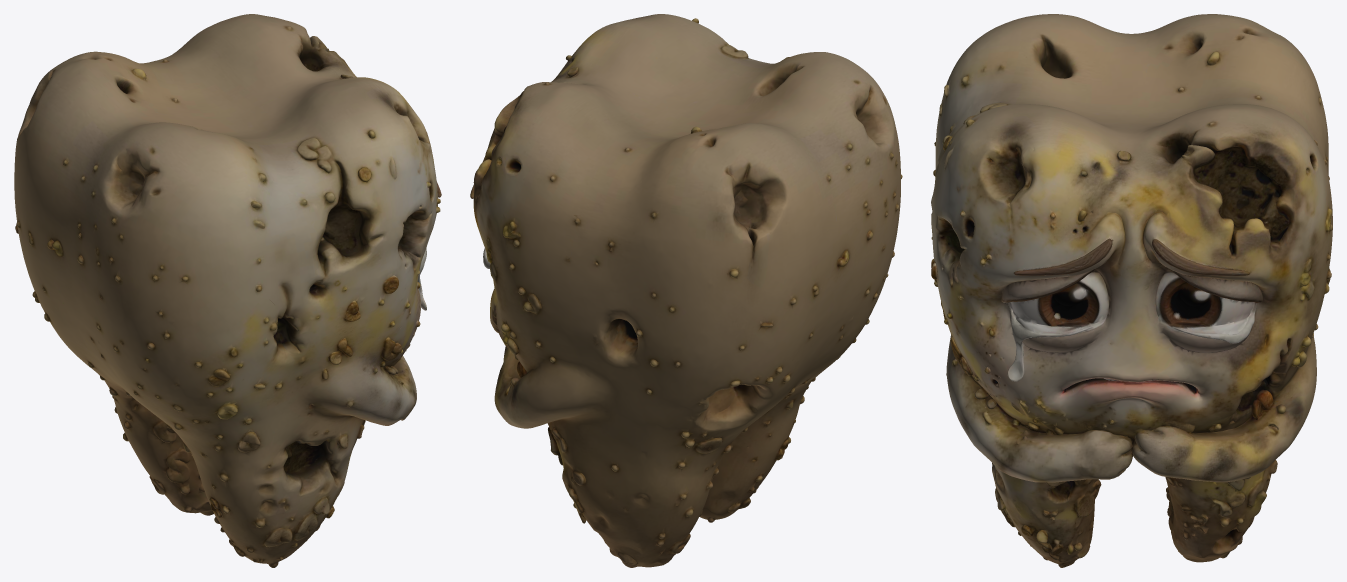
File: glbData_1780601435063_qwwgg.glb
The picture shows the model from 3 angles, left to right: view 1: azimuth 30°, elevation 25°; view 2: azimuth 150°, elevation 25°; view 3: azimuth 270°, elevation 25°; orthographic projection. The views are drawn at different scales.
Parts seen in each view (by area): view 1: tripo_node_830d73ad-de64-4487-82ce-de5c67334086; view 2: tripo_node_830d73ad-de64-4487-82ce-de5c67334086; view 3: tripo_node_830d73ad-de64-4487-82ce-de5c67334086.
Part boxes in pixels (<box>): tripo_node_830d73ad-de64-4487-82ce-de5c67334086: <box>14,14,441,567</box>; tripo_node_830d73ad-de64-4487-82ce-de5c67334086: <box>470,14,902,567</box>; tripo_node_830d73ad-de64-4487-82ce-de5c67334086: <box>931,14,1332,567</box>.
Size of the model in its own units: 0.0775 by 0.1 by 0.0745.
Materials: 1 (1 with a texture image).
